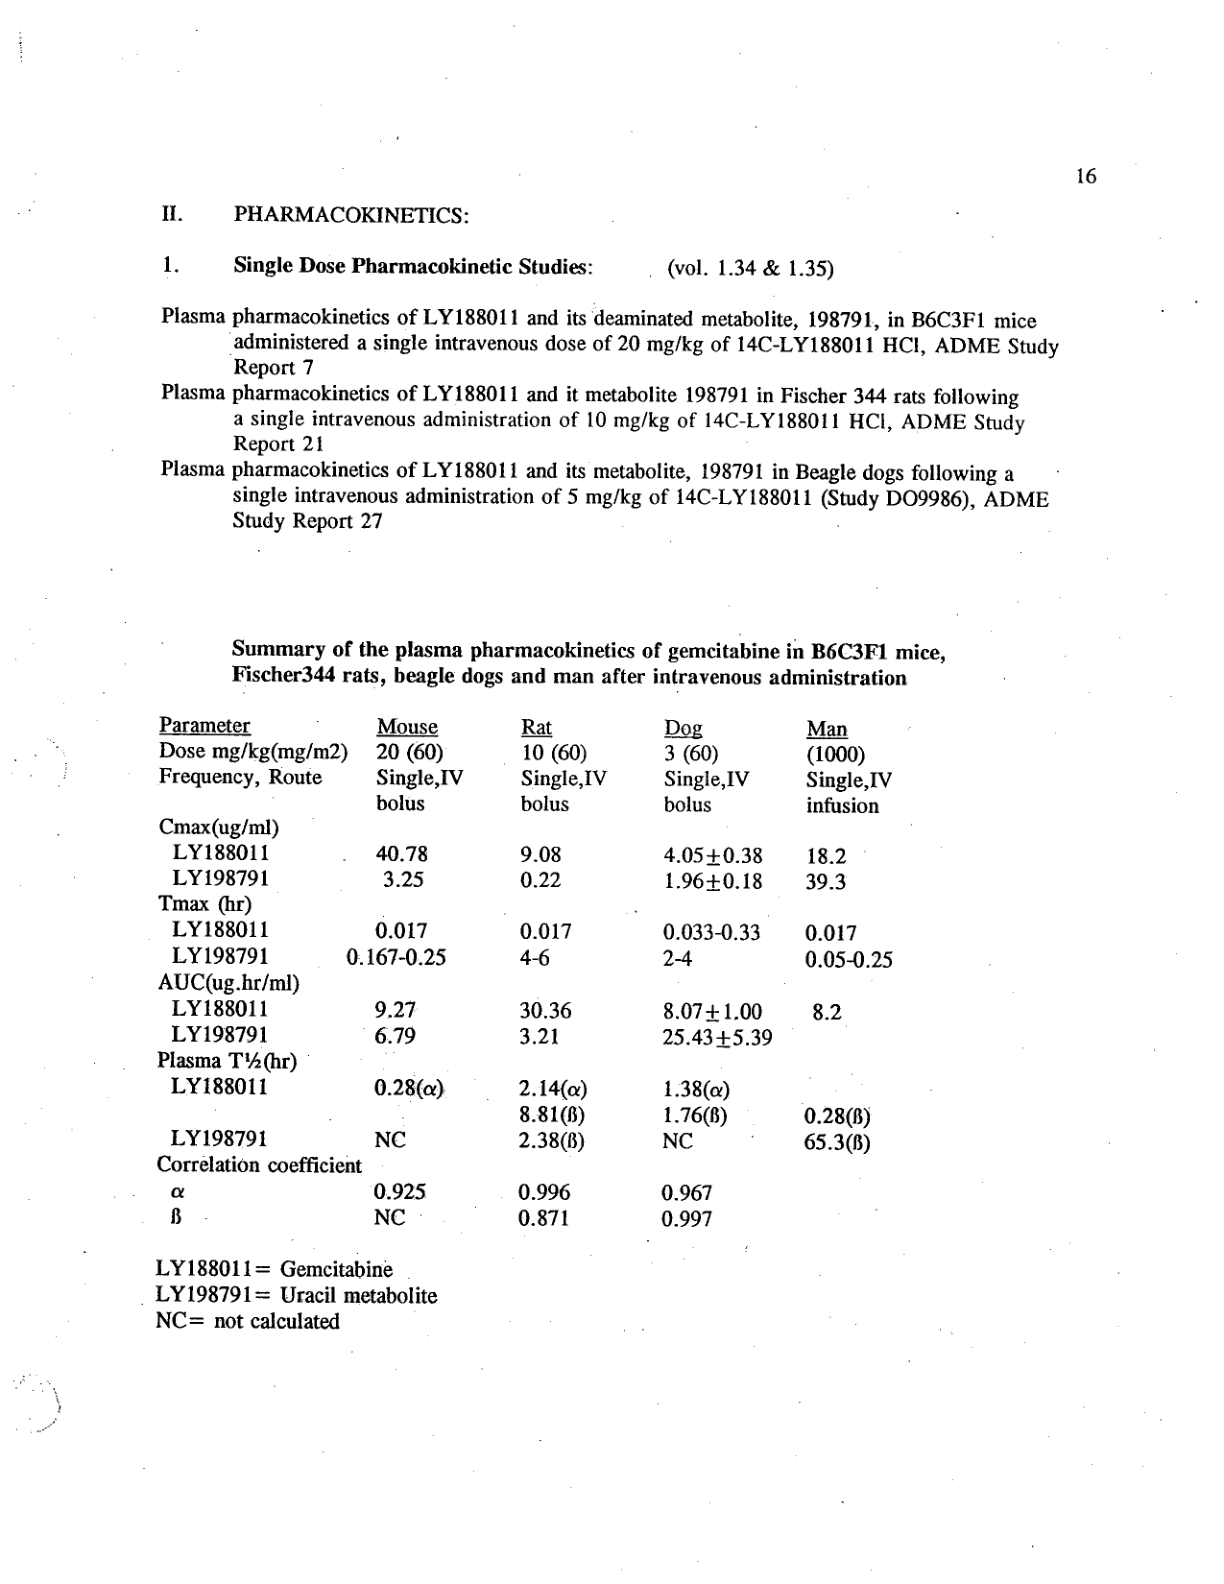nolines: (156, 714, 897, 1232)
